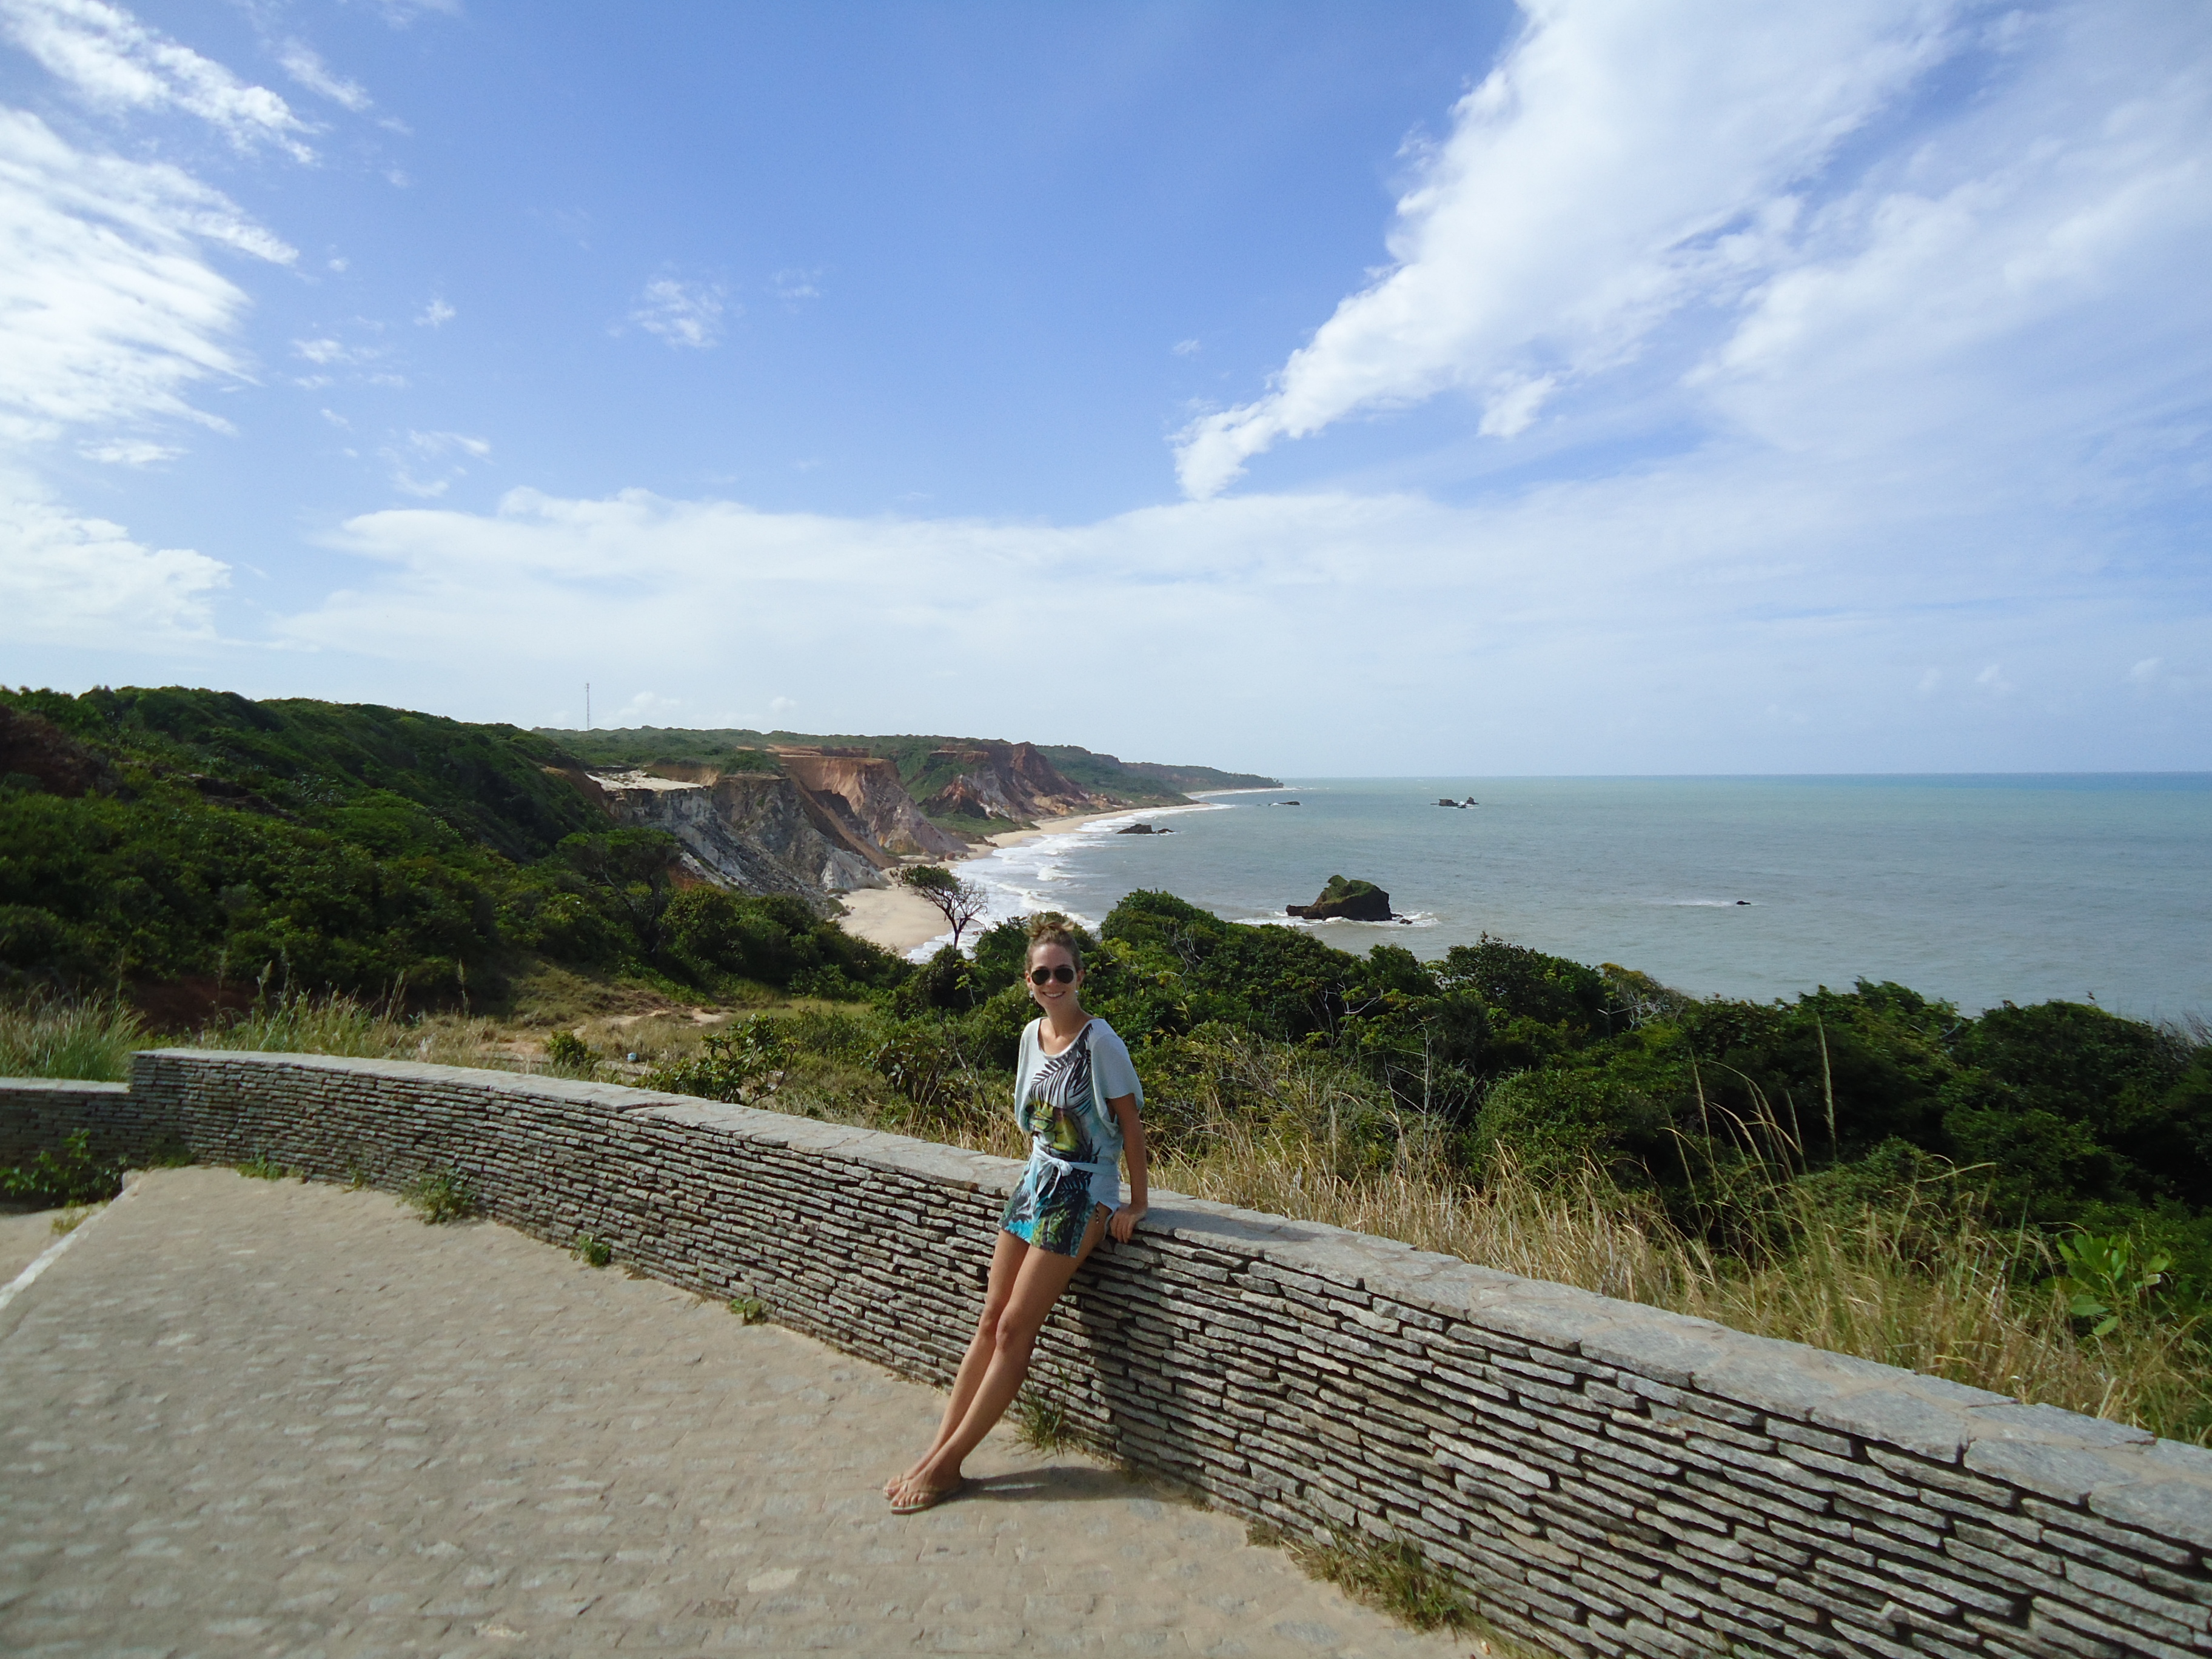Humano: (878, 907, 1179, 1521)
